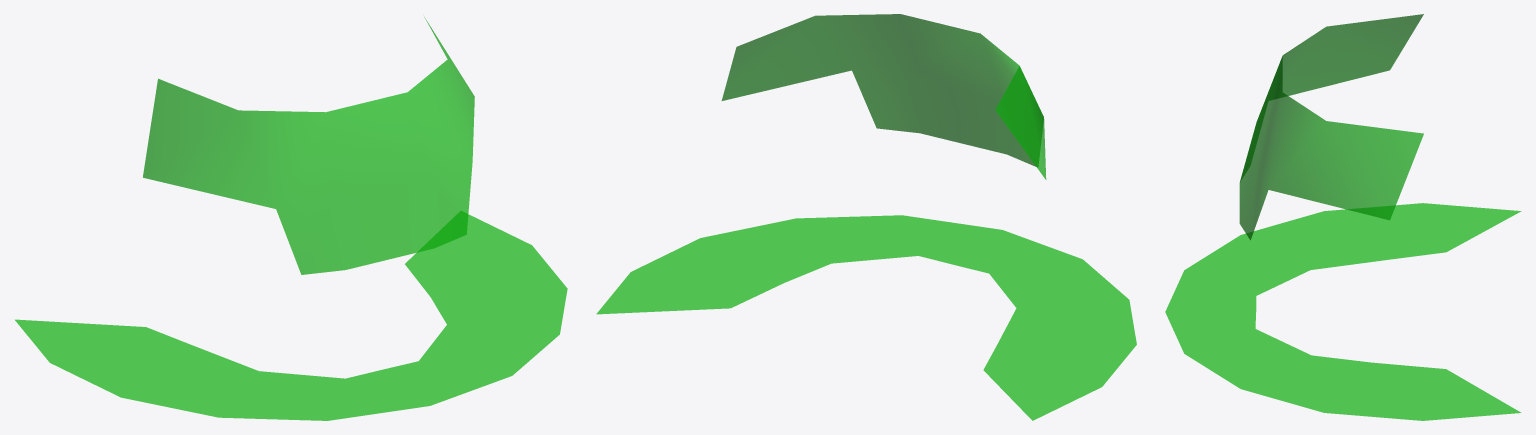
3 views of the same model, side by side, from view 1: azimuth 30°, elevation 25°; view 2: azimuth 150°, elevation 25°; view 3: azimuth 270°, elevation 25° (orthographic). The views are drawn at different scales.
Visible parts, largest first — view 1: dummy_muf2; view 2: dummy_muf2; view 3: dummy_muf2.
Boxes of the visible parts, x1,y1,x2,y2 form: dummy_muf2: (15,17,567,420); dummy_muf2: (596,14,1136,420); dummy_muf2: (1165,14,1521,420).
Bounding box in the file's own units: 0.7402 × 0.3774 × 0.512.
